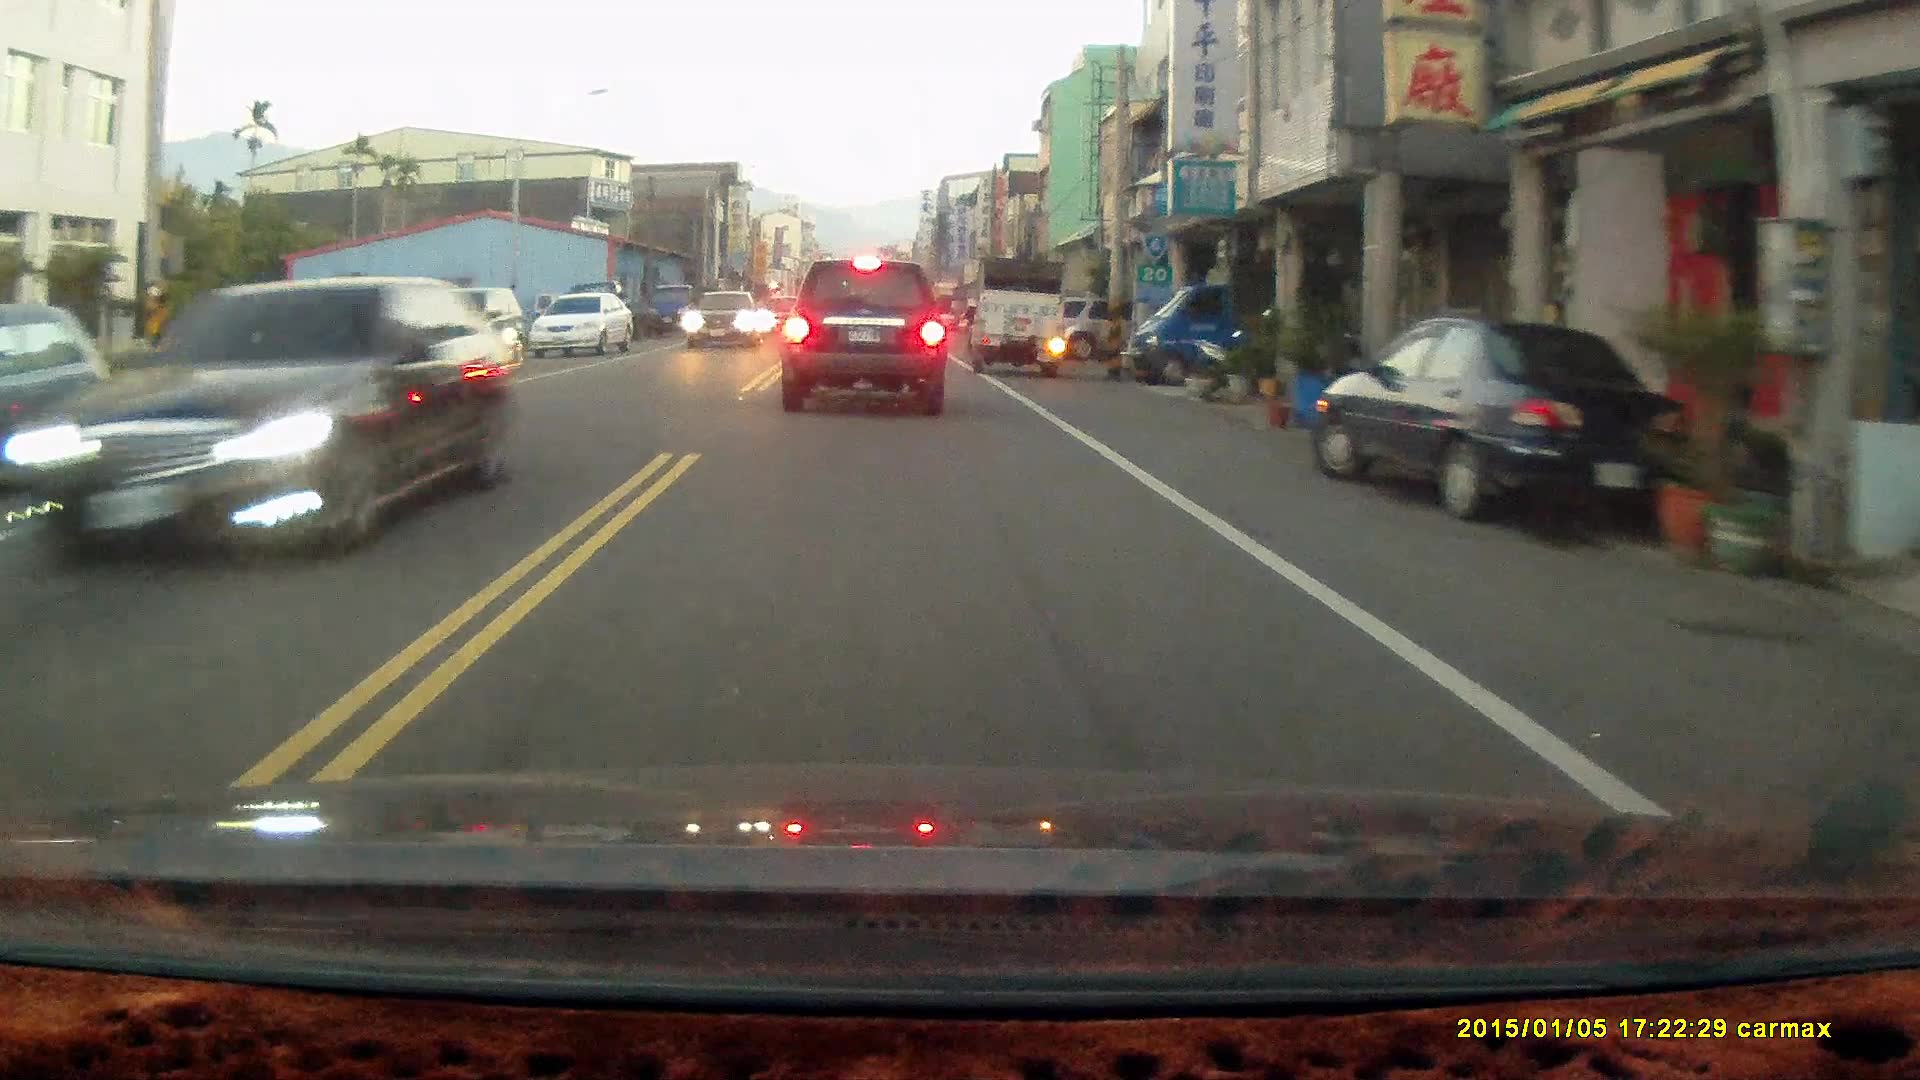vehicle: (15, 277, 498, 568), (1309, 316, 1717, 534), (783, 255, 949, 413), (1, 303, 115, 497), (1120, 260, 1275, 386), (402, 284, 530, 375), (971, 257, 1068, 376), (531, 290, 637, 359), (690, 291, 767, 349), (642, 281, 705, 339)
